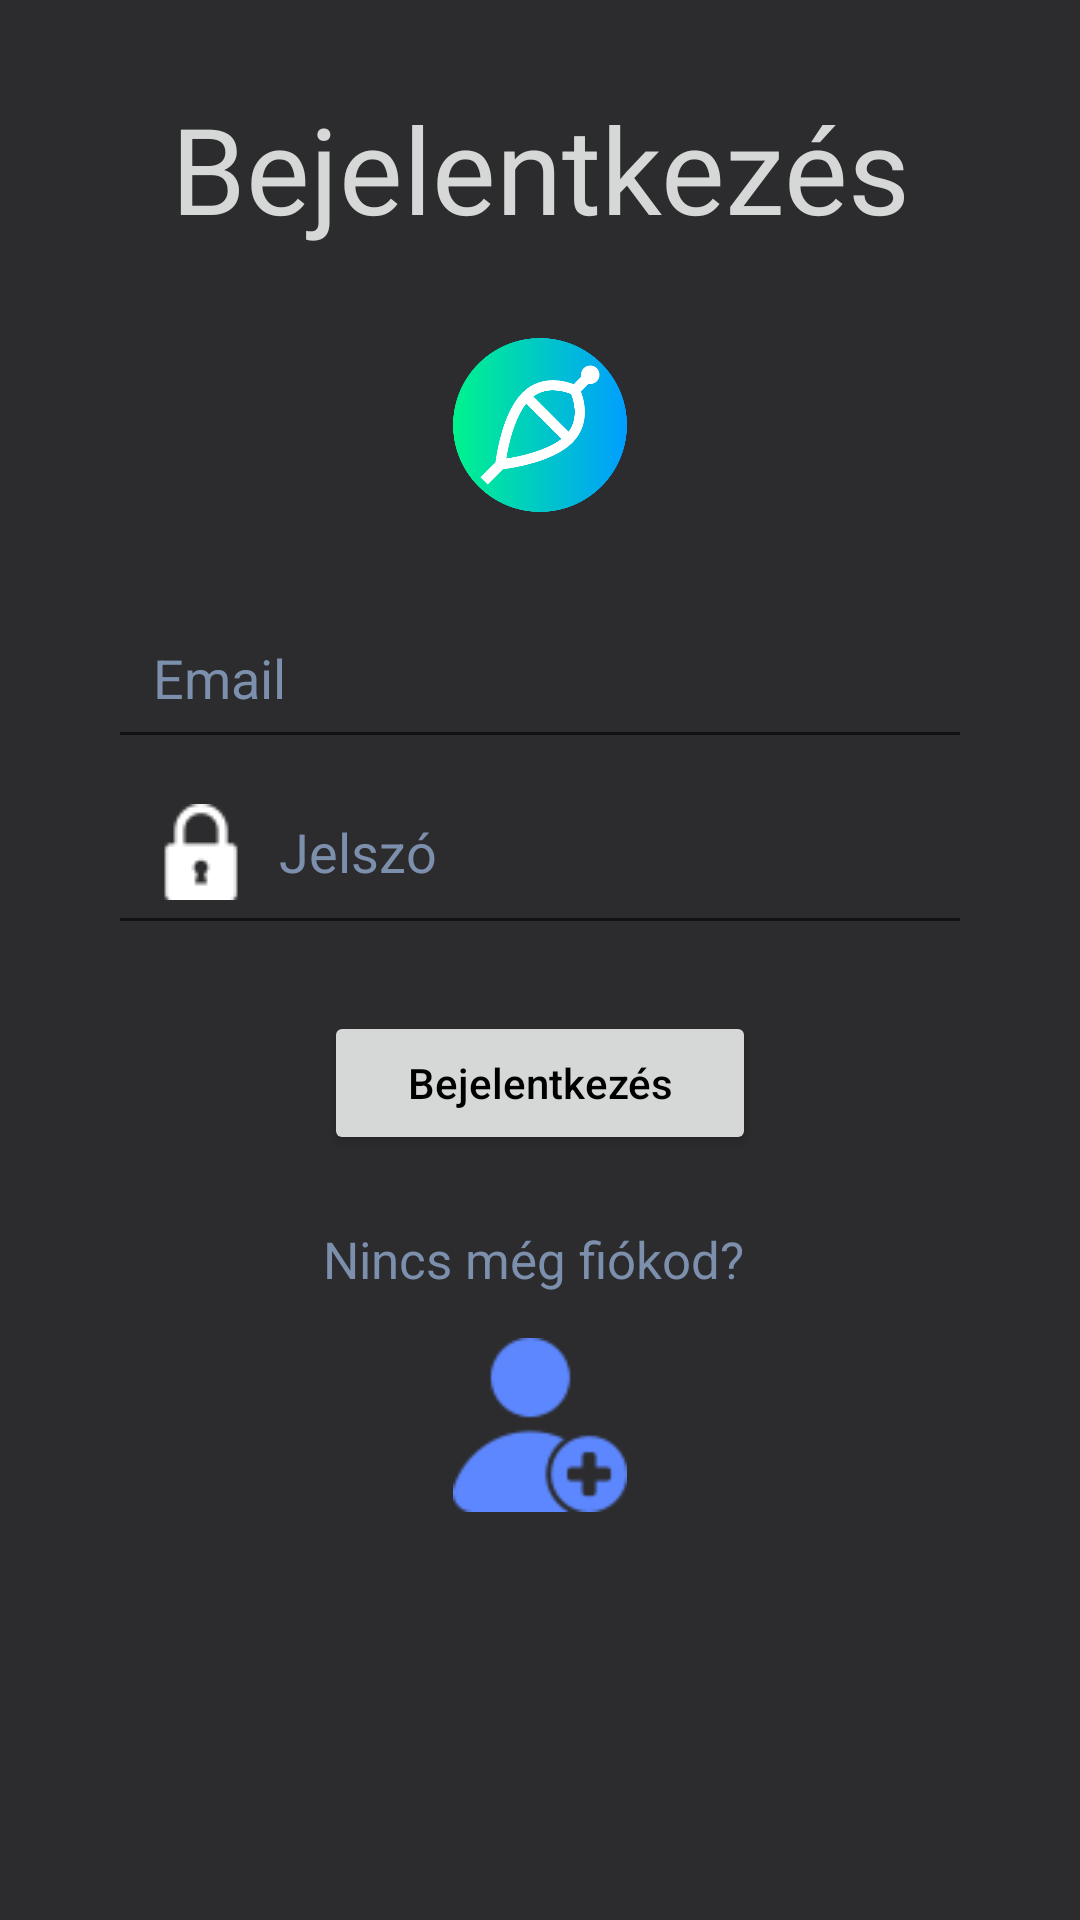

Locate icon controls on the screen. Image size 1080px×1920px, boxes as region(x1, y1, x2, y2).
newaccount: region(453, 1338, 627, 1512)
